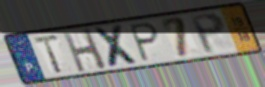7: (159, 15, 192, 60)
H: (60, 26, 110, 74)
P: (187, 11, 227, 56), (128, 21, 161, 64)
T: (32, 33, 65, 76)
X: (91, 23, 144, 70)
